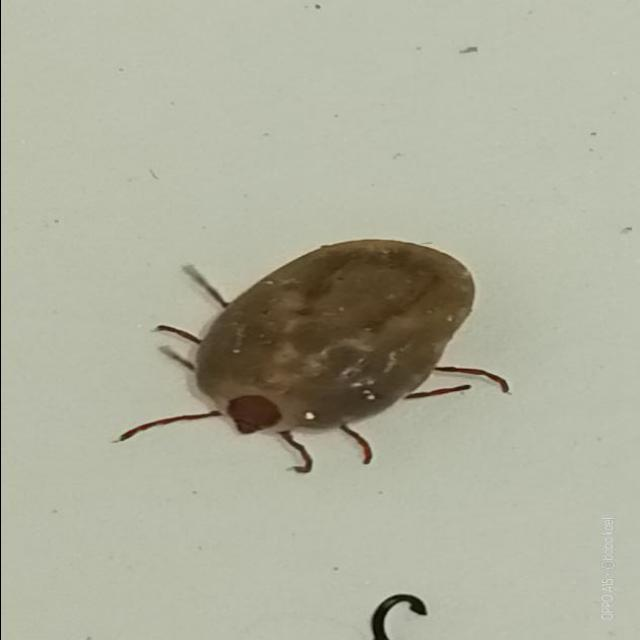Rhipicephalus Sanguineus-F-Fed: (115, 238, 512, 473)
